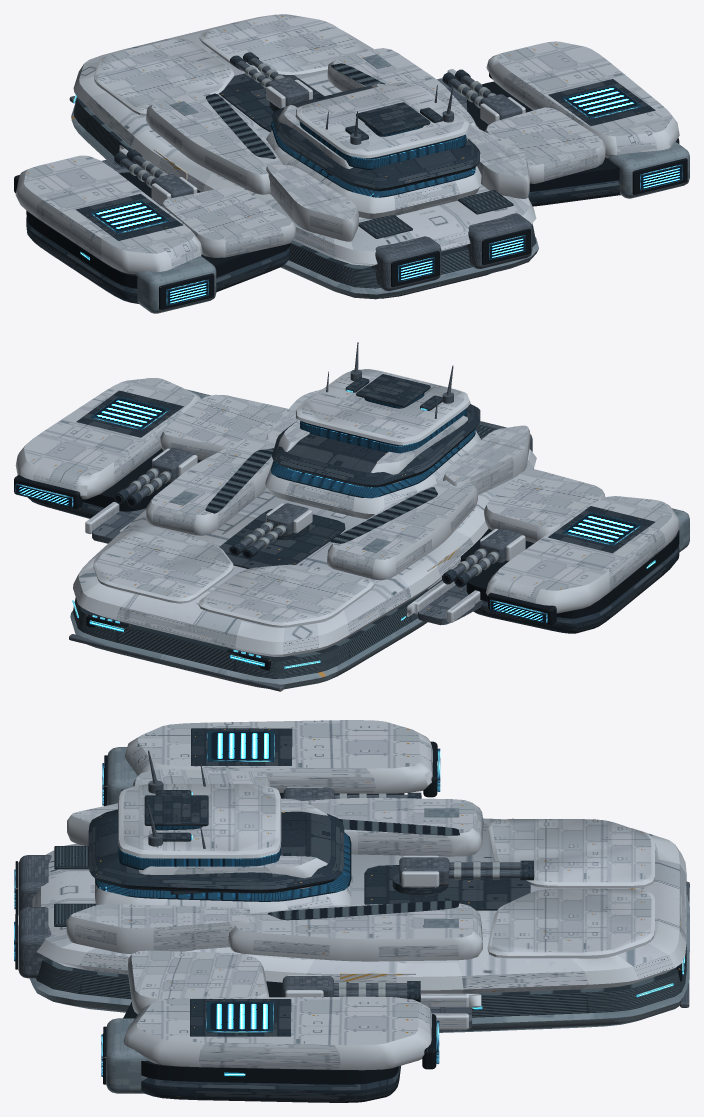
File: alliance_destroyer_recreated.glb
3 views of the same model, one above another, from view 1: azimuth 30°, elevation 25°; view 2: azimuth 150°, elevation 25°; view 3: azimuth 270°, elevation 25° (orthographic). The views are drawn at different scales.
Parts seen in each view (by area): view 1: Alliance Destroyer | Horizon; view 2: Alliance Destroyer | Horizon; view 3: Alliance Destroyer | Horizon.
Boxes of the visible parts, box(x1,y1,x2,y2) form: Alliance Destroyer | Horizon: box(14, 14, 689, 313); Alliance Destroyer | Horizon: box(14, 342, 689, 691); Alliance Destroyer | Horizon: box(14, 720, 689, 1102).
Bounding box in the file's own units: 1.42 × 0.3834 × 1.24.
Materials: 1 (1 with a texture image).
